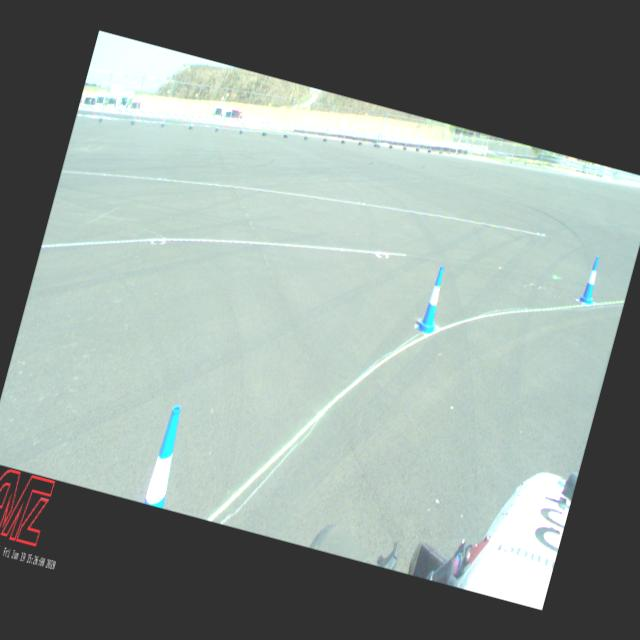blue_cone: (143, 403, 190, 508), (414, 264, 452, 336), (577, 254, 605, 306)
